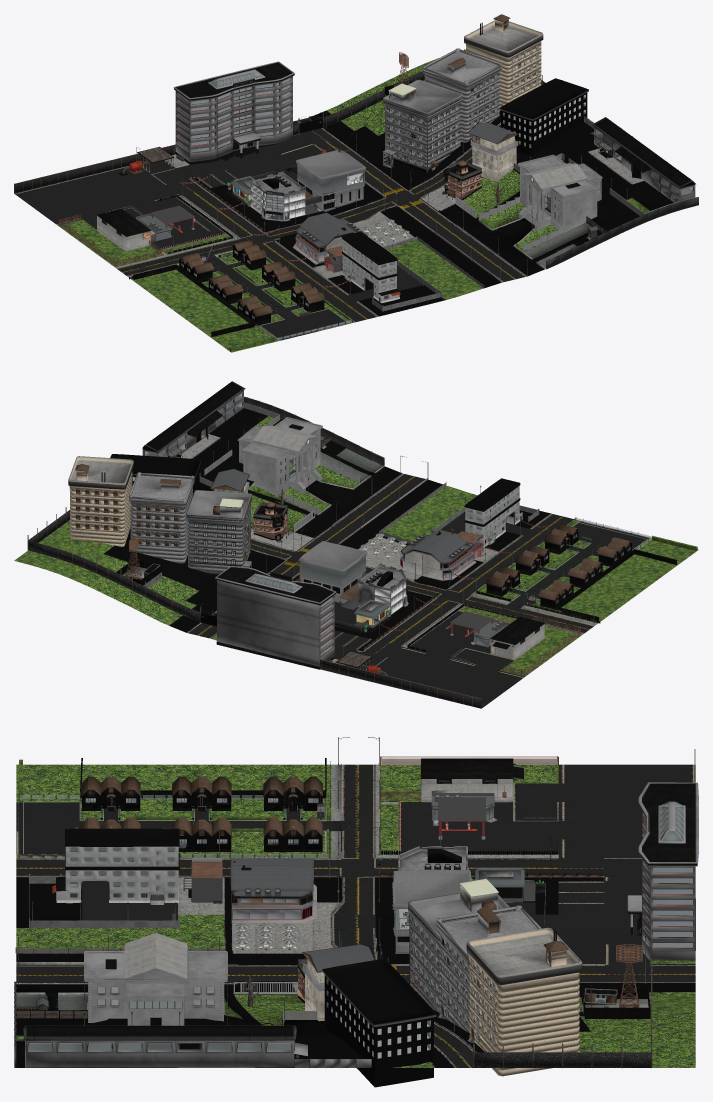
Rendered from city.glb.
3 views of the same model, one above another, from view 1: azimuth 30°, elevation 25°; view 2: azimuth 150°, elevation 25°; view 3: azimuth 270°, elevation 25° (orthographic). The views are drawn at different scales.
Visible parts, largest first — view 1: BASE, HOSPITAL.BASE, Municipality, Six-story building, BASE.042, Сottage Houses, Warehouse.004, Business center.001, HOUSE GREY, HOSPITAL, house with an arch, HOUSE TERAZZA (+20 smaller); view 2: BASE, HOSPITAL.BASE, Municipality, Six-story building, Сottage Houses, Warehouse.004, HOUSE GREY, Six-story building 3, Restaurant TERAZZA, Business center.001, house with an arch, HOSPITAL (+21 smaller); view 3: BASE, Warehouse.004, Municipality, BASE.042, Сottage Houses, Six-story building 3, house with an arch, Restaurant TERAZZA, HOSPITAL.BASE, HOSPITAL, HOUSE BIG.002, Six-story building (+29 smaller).
Part boxes in pixels (x1=…): BASE: x1=14, y1=49, x2=678, y2=352; HOSPITAL.BASE: x1=175, y1=76, x2=292, y2=161; Municipality: x1=455, y1=154, x2=602, y2=251; Six-story building: x1=383, y1=79, x2=462, y2=173; BASE.042: x1=499, y1=78, x2=588, y2=155; Сottage Houses: x1=178, y1=240, x2=325, y2=325; Warehouse.004: x1=513, y1=116, x2=695, y2=216; Business center.001: x1=296, y1=149, x2=365, y2=211; HOUSE GREY: x1=422, y1=48, x2=501, y2=142; HOSPITAL: x1=173, y1=61, x2=294, y2=164; house with an arch: x1=342, y1=231, x2=400, y2=303; HOUSE TERAZZA: x1=467, y1=122, x2=518, y2=181; BASE: x1=14, y1=406, x2=698, y2=708; HOSPITAL.BASE: x1=217, y1=580, x2=334, y2=666; Municipality: x1=237, y1=417, x2=359, y2=532; Six-story building: x1=186, y1=490, x2=252, y2=575; Сottage Houses: x1=485, y1=524, x2=632, y2=609; Warehouse.004: x1=142, y1=381, x2=279, y2=486; HOUSE GREY: x1=129, y1=472, x2=194, y2=563; Six-story building 3: x1=69, y1=471, x2=132, y2=546; Restaurant TERAZZA: x1=397, y1=528, x2=476, y2=580; Business center.001: x1=298, y1=541, x2=367, y2=603; house with an arch: x1=464, y1=478, x2=522, y2=547; HOSPITAL: x1=215, y1=566, x2=335, y2=669; BASE: x1=16, y1=764, x2=695, y2=1067; Warehouse.004: x1=23, y1=1011, x2=371, y2=1067; Municipality: x1=84, y1=933, x2=297, y2=1025; BASE.042: x1=322, y1=959, x2=436, y2=1087; Сottage Houses: x1=81, y1=776, x2=323, y2=851; Six-story building 3: x1=469, y1=955, x2=579, y2=1076; house with an arch: x1=52, y1=828, x2=179, y2=904; Restaurant TERAZZA: x1=230, y1=853, x2=316, y2=923; HOSPITAL.BASE: x1=642, y1=810, x2=695, y2=960; HOSPITAL: x1=627, y1=782, x2=698, y2=948; HOUSE BIG.002: x1=466, y1=927, x2=582, y2=985; Six-story building: x1=408, y1=878, x2=512, y2=1012.
Bounding box in the file's own units: 174 × 38.96 × 139.
Materials: 98 (88 with a texture image).
